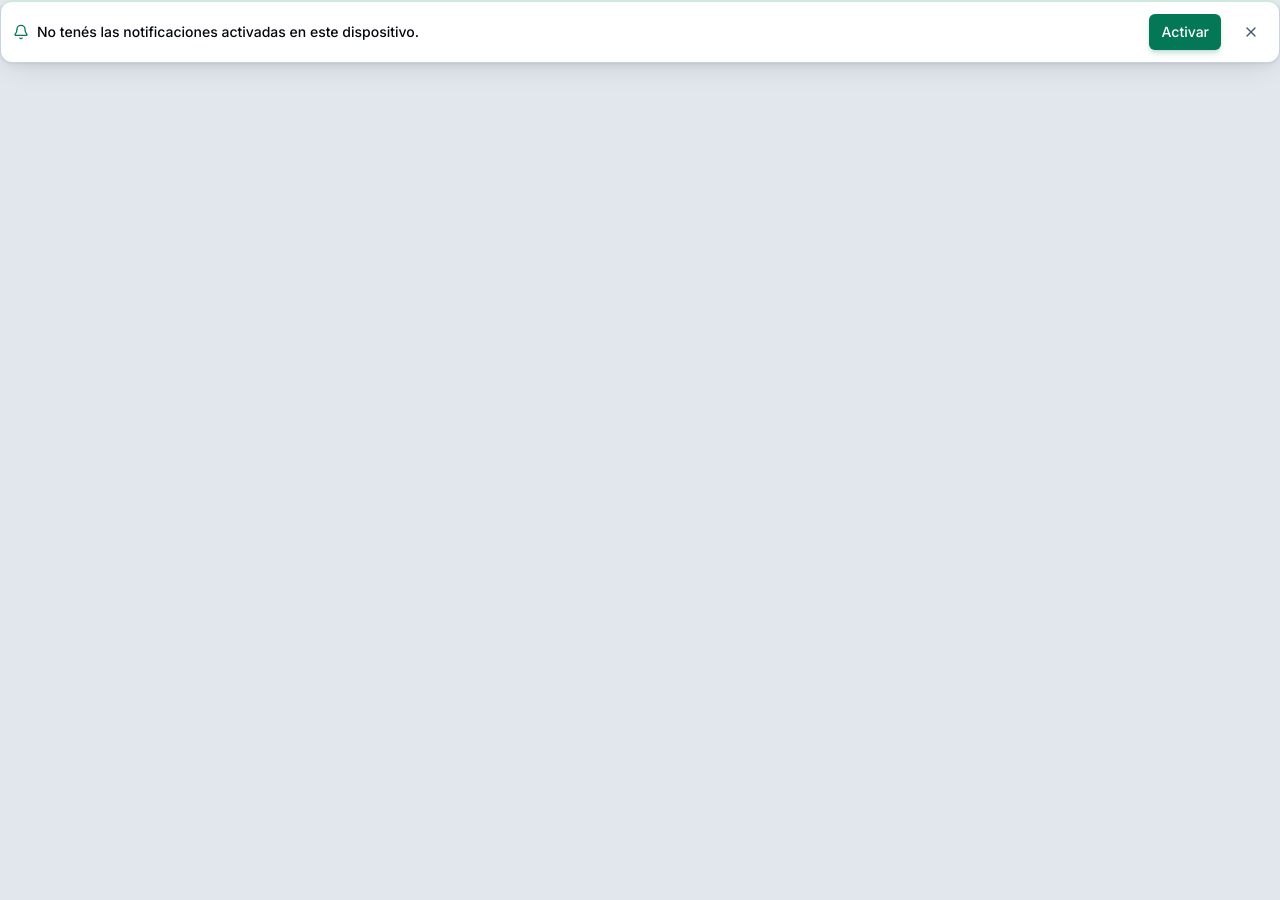
Test: PushNotificationManager — modal y cartel de permiso › el botón del cartel vuelve a abrir el modal
Click the button "Activar" at (1185, 32), box [1150,14,1221,50]
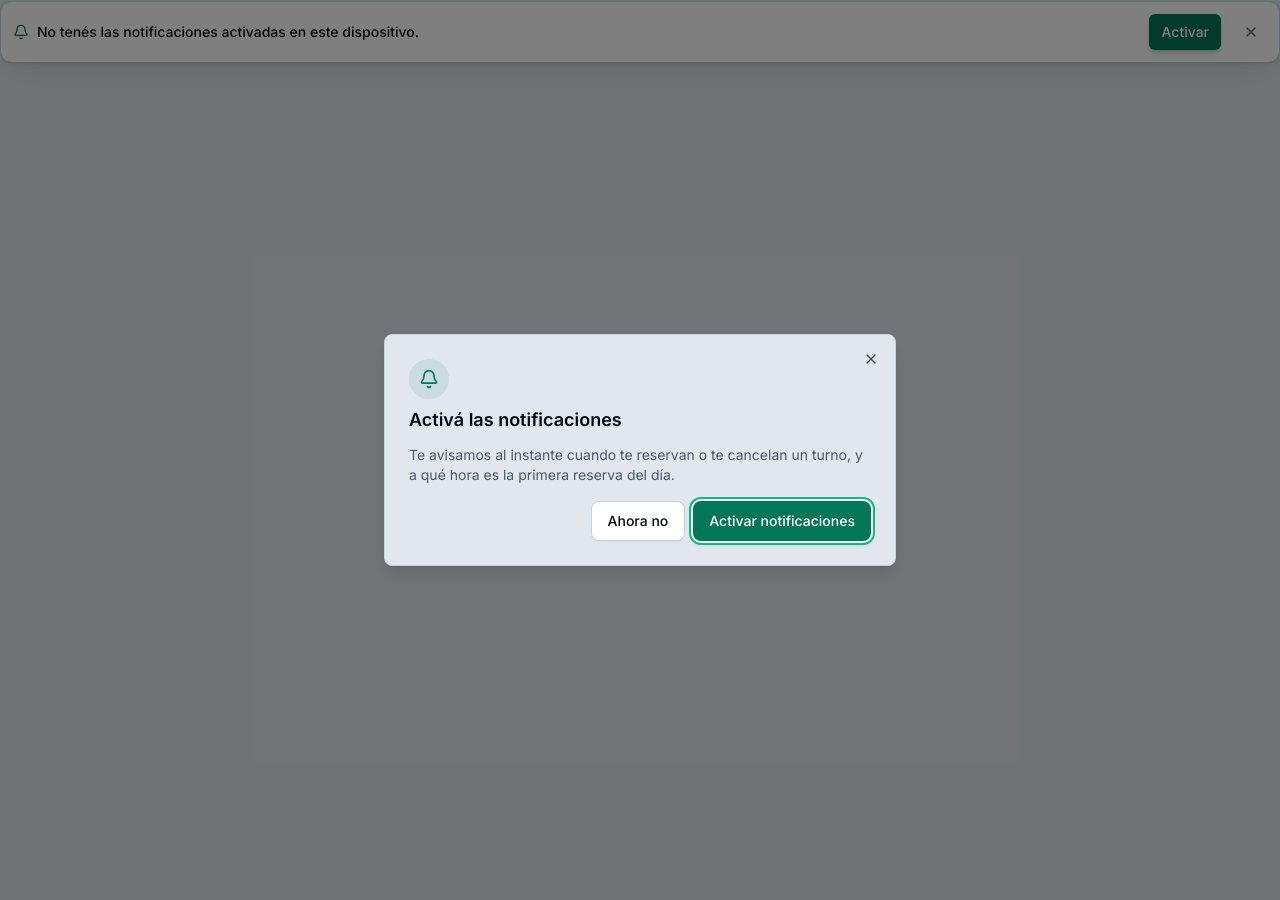
Expected: the dialog is shown, [384,334,896,566]
